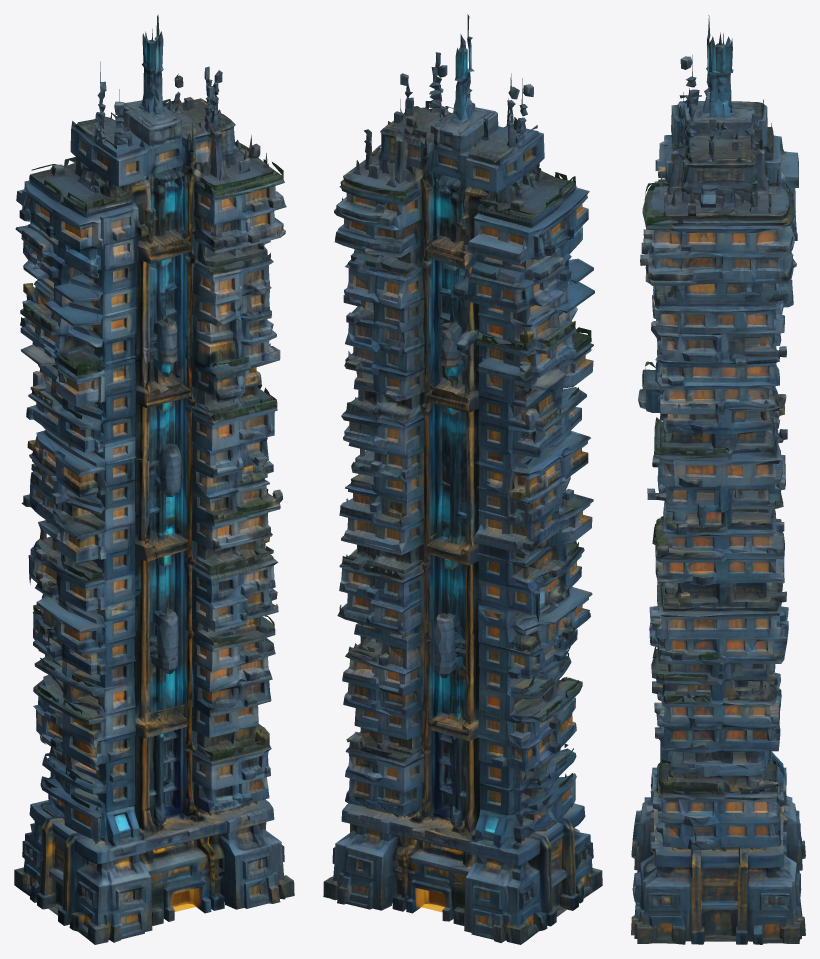
The model's file is source.glb.
3 views of the same model, side by side, from view 1: azimuth 30°, elevation 25°; view 2: azimuth 150°, elevation 25°; view 3: azimuth 270°, elevation 25° (orthographic).
Parts seen in each view (by area): view 1: model; view 2: model; view 3: model.
Boxes of the visible parts, x1,y1,x2,y2 form: model: [14, 14, 294, 944]; model: [323, 14, 602, 944]; model: [631, 15, 805, 944].
Size of the model in its own units: 0.5014 by 1.93 by 0.3475.
Materials: 1 (1 with a texture image).
